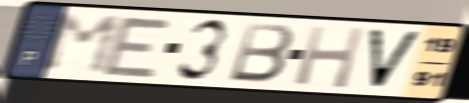3: (173, 17, 238, 83)
B: (226, 20, 297, 86)
E: (100, 13, 177, 80)
H: (291, 23, 368, 92)
M: (40, 13, 125, 77)
V: (366, 26, 426, 92)
